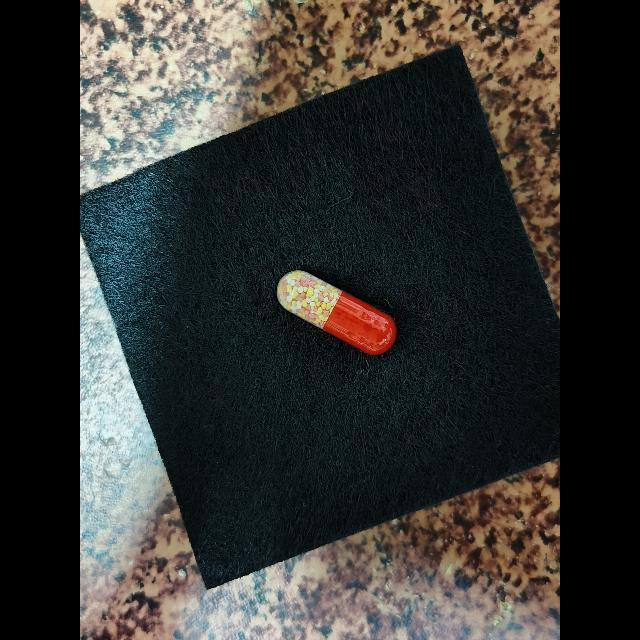Intact Capsule: (277, 270, 396, 355)
